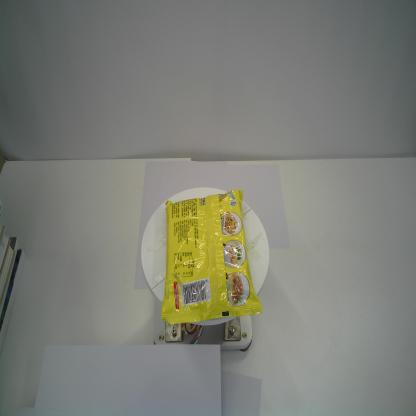Instant Noodles: (160, 188, 262, 325)
